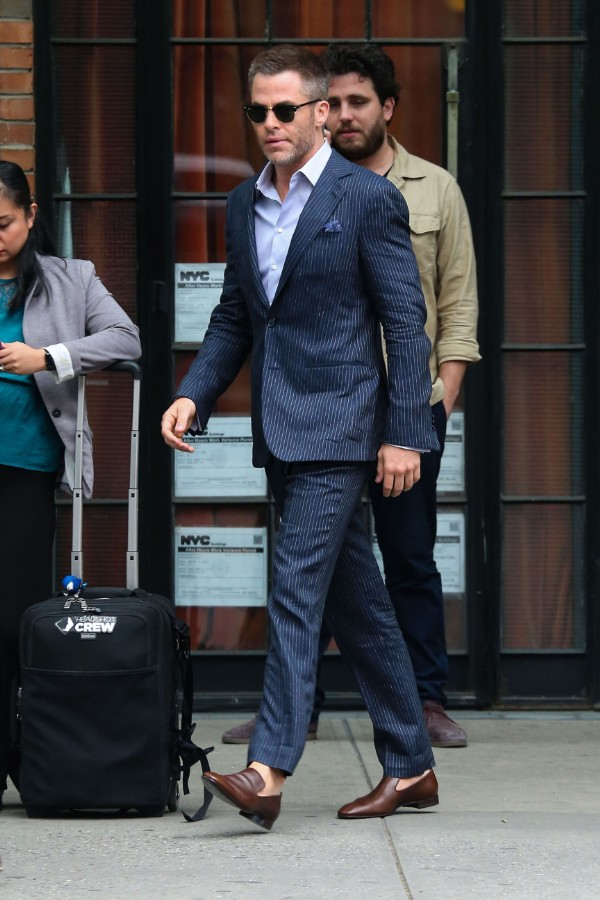Person: (159, 47, 439, 831), (223, 49, 483, 748), (1, 153, 141, 590)
